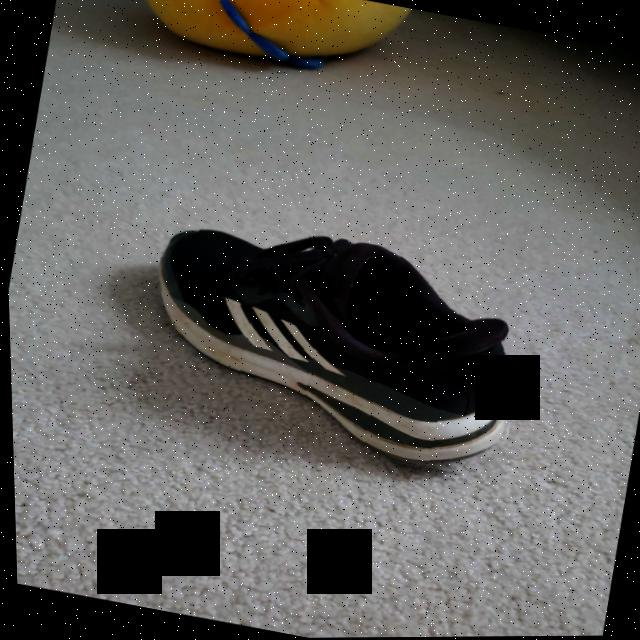shoe: (126, 204, 541, 490)
